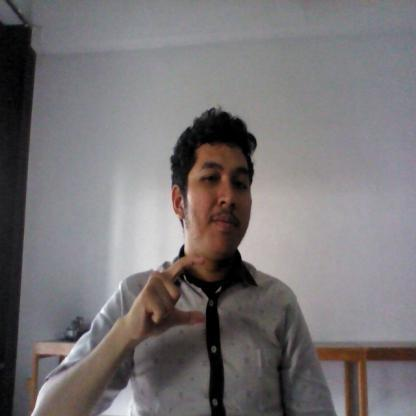C: (132, 253, 211, 343)
